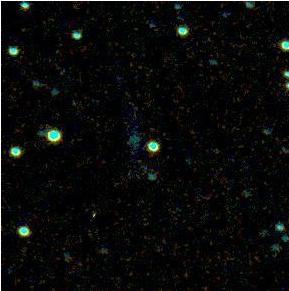star: (75, 208, 105, 238)
